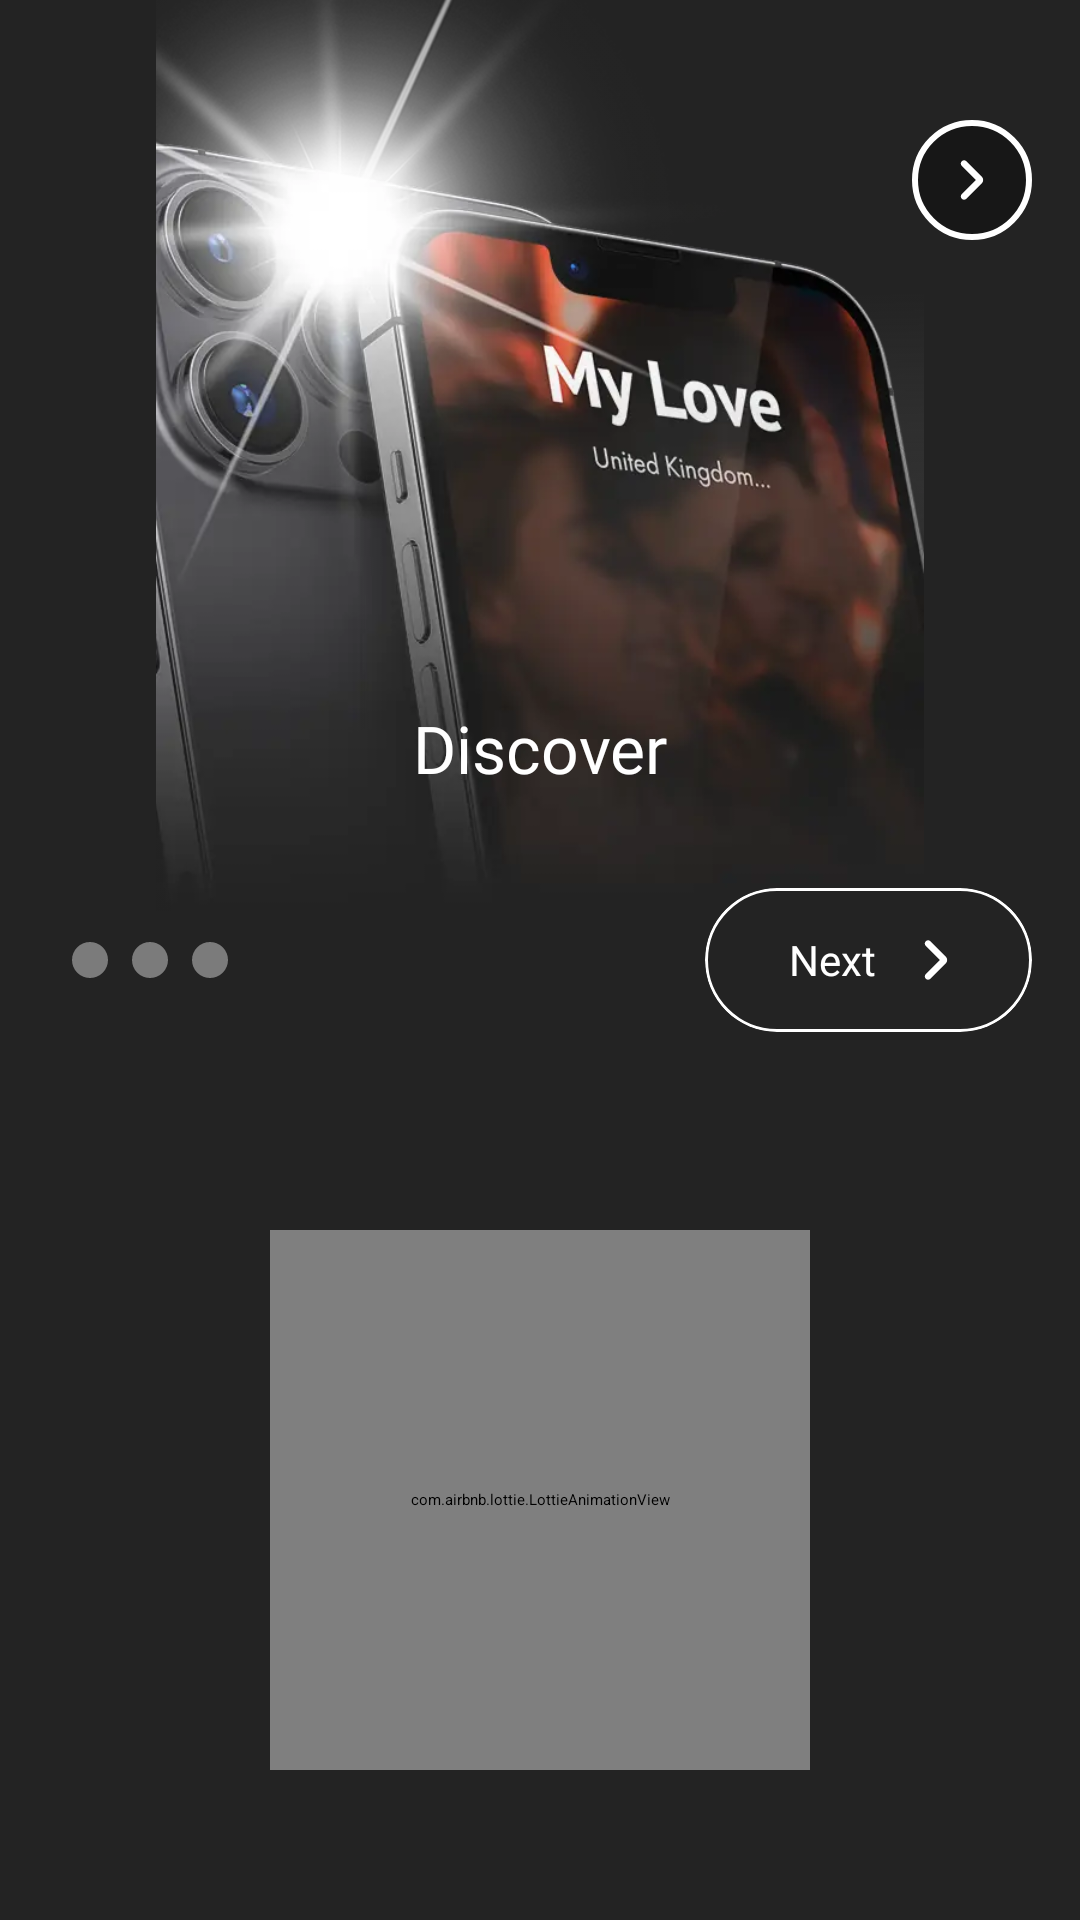

Where icons sit on this 1080*1920 app screen, as box=[x1, y1, x2, y2]:
arrow forward: box=[960, 160, 983, 200], box=[924, 940, 947, 980]
dot: box=[72, 942, 108, 978], box=[132, 942, 168, 978], box=[192, 942, 228, 978]
